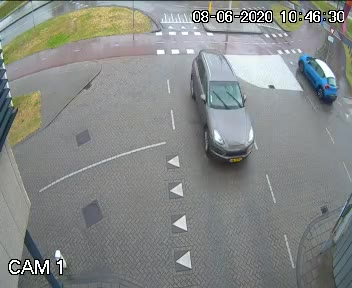car: (183, 42, 259, 171), (291, 48, 340, 109)
